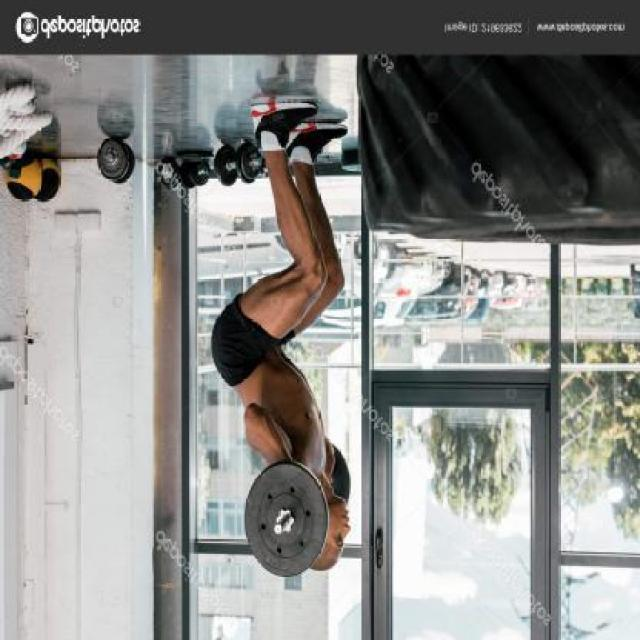Barbell: (274, 516, 286, 539)
